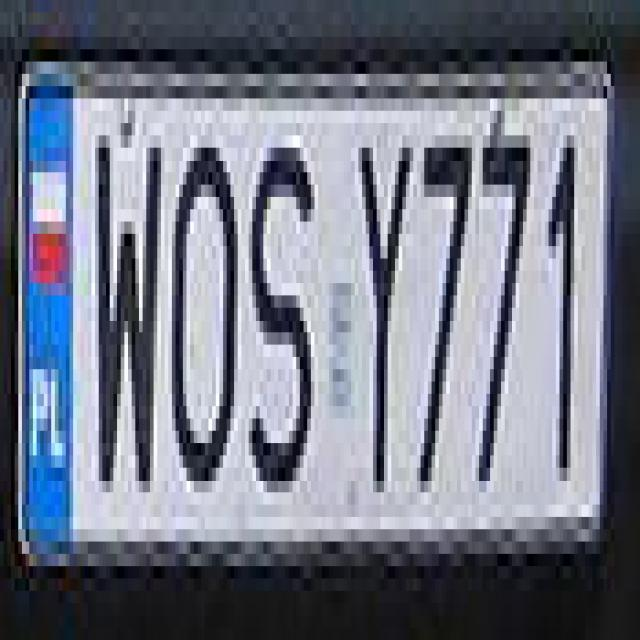pl_license_plate: (19, 62, 604, 529)
